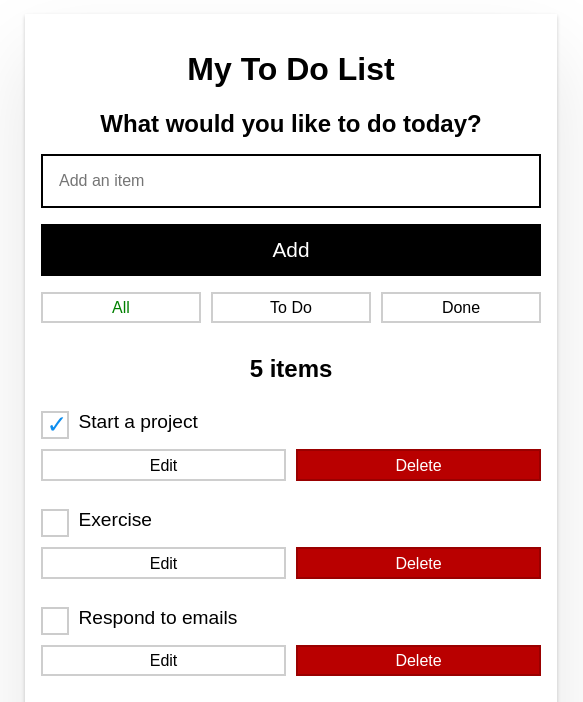
Test: ToDo List › should complete a task
Click the button with class "btn-menu" showing "All". click: point(121, 308)
box: [41, 292, 201, 324]
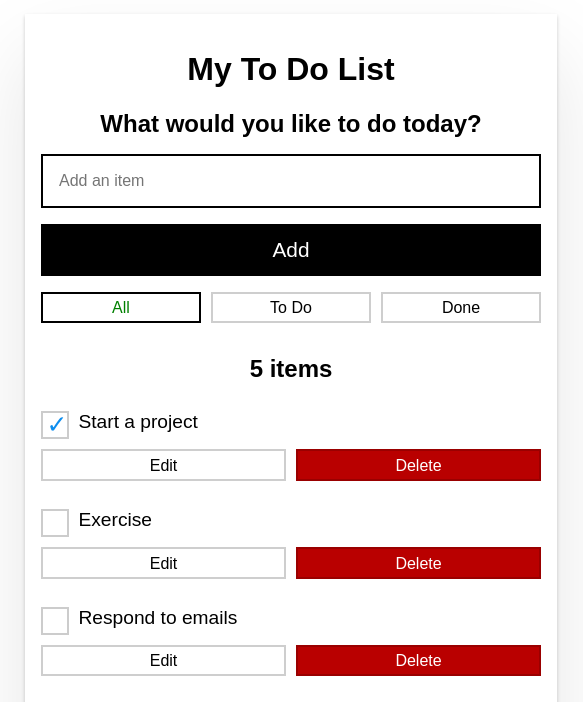
Click the text "Respond to emails". click: point(158, 618)
box: [78, 607, 237, 628]
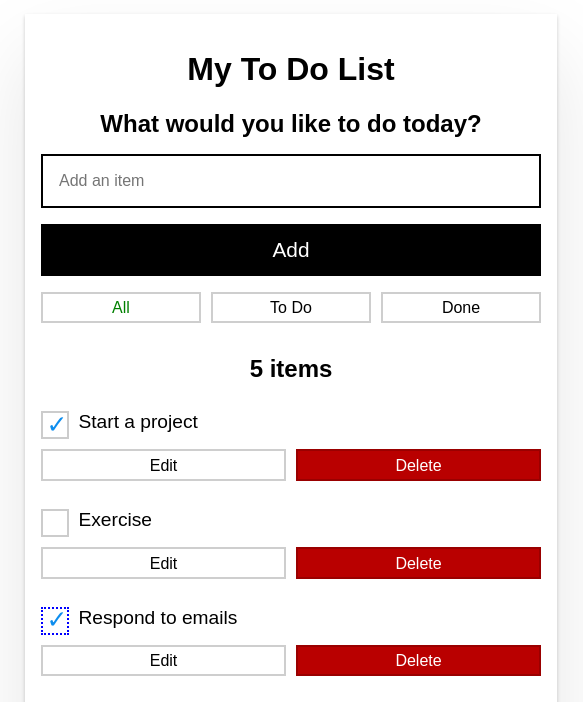
Click the button with class "btn-menu" showing "To Do". click: point(291, 308)
box: [211, 292, 371, 324]
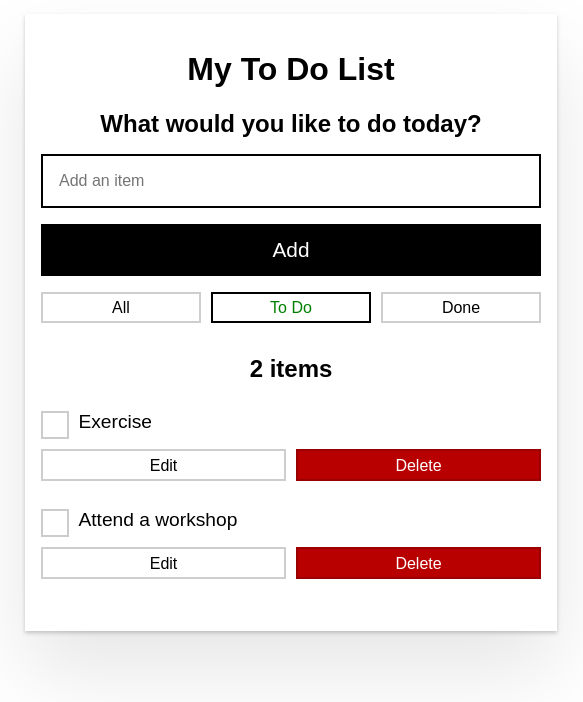
expect the text "Respond to emails" is gone: met
Click the button with class "btn-menu" showing "Done". click: point(461, 308)
box: [381, 292, 541, 324]
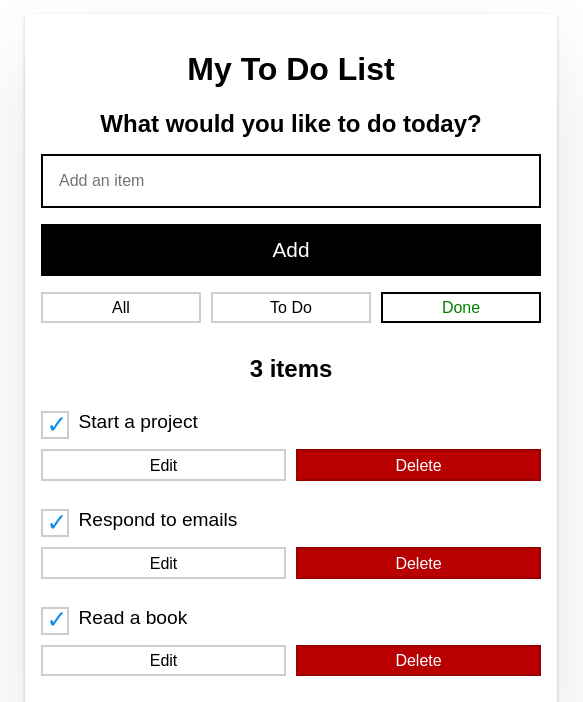
expect the text "Respond to emails" is shown: met, box [78, 509, 237, 530]
